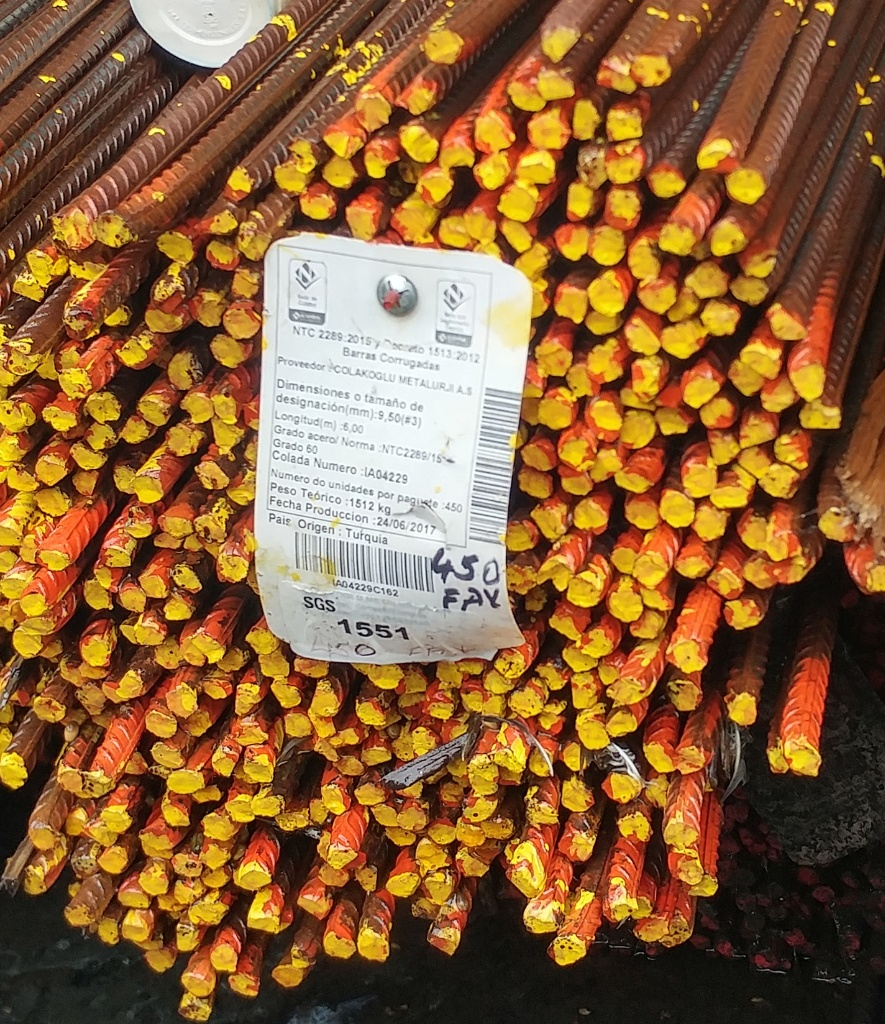dipstick: (498, 843, 545, 897), (387, 199, 434, 242), (603, 572, 645, 620), (698, 295, 741, 338), (584, 397, 627, 440), (537, 390, 579, 432), (517, 783, 560, 824), (767, 303, 813, 341), (189, 289, 230, 331), (224, 300, 267, 340), (351, 84, 390, 128), (321, 119, 365, 158), (697, 137, 738, 178), (553, 220, 593, 262), (183, 631, 225, 671), (401, 120, 440, 163), (706, 216, 747, 256), (631, 52, 674, 90), (608, 142, 646, 185), (54, 213, 99, 249), (469, 152, 515, 187), (116, 336, 162, 371), (607, 673, 653, 708), (787, 359, 825, 401), (683, 262, 728, 297), (52, 362, 101, 394), (718, 600, 767, 632), (600, 108, 646, 142), (539, 23, 579, 62), (639, 276, 678, 316), (586, 345, 625, 385), (399, 82, 440, 120), (238, 743, 276, 784), (354, 928, 395, 966), (363, 135, 400, 177), (6, 336, 43, 378), (77, 631, 116, 670), (231, 221, 271, 259), (710, 477, 756, 510), (215, 542, 251, 584), (345, 196, 380, 239), (499, 215, 534, 258), (579, 150, 618, 188), (625, 241, 663, 280), (737, 411, 777, 448), (597, 57, 638, 93), (472, 112, 513, 148), (207, 417, 248, 453), (759, 458, 800, 494), (726, 361, 767, 397), (536, 342, 577, 378), (526, 895, 561, 937), (817, 508, 859, 543), (138, 824, 176, 862), (773, 433, 811, 471), (687, 370, 725, 408), (226, 262, 265, 299), (639, 734, 676, 773), (93, 214, 133, 250), (632, 358, 668, 398), (727, 169, 768, 204), (590, 227, 631, 262), (515, 149, 556, 184), (268, 958, 309, 993), (678, 461, 719, 496), (551, 288, 592, 323), (533, 71, 576, 104), (153, 228, 196, 261), (554, 437, 598, 469), (119, 499, 156, 537), (649, 161, 688, 197), (536, 554, 572, 593), (590, 274, 629, 310), (300, 185, 340, 220), (180, 966, 220, 1001), (630, 909, 670, 944), (574, 714, 609, 754), (499, 184, 540, 218), (656, 220, 698, 253), (660, 818, 703, 850), (566, 568, 603, 605), (225, 469, 263, 505), (633, 552, 671, 588), (660, 490, 696, 528), (141, 702, 180, 737), (667, 639, 706, 674), (573, 493, 607, 533), (618, 414, 658, 448), (427, 32, 470, 63), (527, 114, 570, 145), (705, 568, 748, 599), (31, 691, 68, 727), (430, 922, 466, 959), (691, 504, 728, 540), (187, 895, 225, 930), (318, 833, 357, 867), (801, 397, 841, 430), (741, 347, 785, 377), (664, 681, 705, 713), (661, 325, 706, 354), (154, 276, 190, 312), (75, 681, 110, 718), (560, 778, 595, 815), (510, 78, 550, 110), (576, 627, 620, 656), (227, 713, 268, 744), (459, 789, 500, 820), (616, 810, 657, 841), (26, 249, 61, 285), (169, 352, 204, 388), (136, 394, 171, 430), (180, 393, 215, 429), (130, 472, 166, 507), (519, 464, 555, 499), (205, 235, 239, 272), (87, 388, 124, 422), (306, 679, 340, 716), (96, 840, 130, 877), (568, 101, 601, 139), (19, 576, 52, 614), (669, 848, 707, 881), (624, 496, 663, 528), (548, 609, 588, 640), (533, 503, 573, 534), (421, 171, 455, 207), (71, 465, 105, 501), (14, 627, 48, 663), (63, 895, 97, 931), (785, 738, 819, 774), (568, 365, 604, 399), (281, 711, 318, 744), (166, 688, 204, 720), (559, 468, 597, 500), (194, 211, 237, 239), (600, 774, 643, 802), (730, 275, 770, 305), (614, 461, 654, 491), (37, 540, 71, 575), (34, 451, 67, 487), (158, 797, 191, 833), (440, 213, 472, 250), (256, 648, 293, 680), (563, 639, 600, 671), (501, 562, 538, 594), (558, 831, 596, 862), (12, 273, 51, 303), (516, 245, 550, 279), (535, 657, 569, 691), (494, 740, 527, 775), (353, 698, 389, 730), (489, 650, 530, 678), (200, 809, 237, 840), (321, 928, 358, 959), (356, 738, 393, 769), (504, 521, 541, 552), (520, 440, 557, 471), (435, 141, 473, 171), (452, 848, 490, 878), (410, 842, 449, 871), (166, 422, 200, 455), (230, 681, 263, 715), (269, 674, 303, 707), (170, 847, 204, 880), (421, 869, 454, 903), (81, 422, 121, 450), (249, 903, 284, 935), (623, 411, 658, 443), (626, 321, 661, 353), (560, 187, 596, 218), (467, 755, 498, 791), (467, 204, 497, 241), (3, 402, 33, 439), (159, 510, 197, 539), (1, 752, 30, 790), (628, 610, 666, 639), (191, 512, 230, 540), (423, 683, 455, 717), (83, 580, 112, 617), (196, 840, 233, 869), (410, 727, 448, 755), (7, 463, 39, 496), (211, 336, 245, 367), (139, 865, 173, 896), (428, 656, 467, 683), (70, 849, 99, 885), (236, 862, 272, 891), (295, 889, 332, 917), (561, 738, 589, 775), (703, 435, 740, 463), (70, 257, 113, 281), (289, 140, 321, 172), (246, 625, 279, 656), (121, 913, 154, 944), (273, 161, 307, 191), (75, 441, 109, 471), (57, 657, 91, 687), (528, 744, 558, 778), (175, 1000, 221, 1022), (451, 822, 488, 849), (553, 934, 590, 961), (28, 823, 59, 855), (208, 945, 240, 976), (773, 554, 805, 585), (170, 563, 203, 593), (745, 558, 778, 588), (673, 742, 707, 771), (151, 637, 186, 665), (213, 744, 241, 779), (571, 679, 599, 714), (673, 553, 712, 578), (211, 392, 238, 428), (38, 487, 74, 514), (617, 392, 659, 415), (147, 308, 184, 334), (89, 918, 120, 949), (588, 449, 619, 480), (137, 571, 169, 601), (114, 669, 146, 699), (141, 945, 181, 969), (320, 784, 349, 817), (354, 861, 383, 894), (510, 690, 544, 718), (740, 514, 768, 548), (97, 545, 135, 570), (195, 460, 230, 487), (58, 761, 85, 796), (64, 311, 94, 342), (461, 679, 491, 710), (104, 301, 133, 333), (118, 418, 150, 447), (152, 740, 184, 769), (437, 784, 469, 813), (160, 593, 194, 620), (423, 817, 457, 844), (729, 693, 756, 727), (477, 694, 512, 720), (485, 668, 520, 694), (201, 675, 237, 700), (369, 663, 405, 688), (62, 804, 92, 834), (524, 360, 549, 396), (534, 693, 573, 716), (118, 882, 151, 909), (396, 807, 429, 834), (517, 597, 551, 623), (291, 655, 331, 677), (276, 808, 311, 833), (304, 794, 328, 830), (185, 783, 226, 804), (172, 879, 205, 905), (605, 712, 638, 738), (23, 861, 48, 895), (173, 924, 207, 949), (393, 666, 427, 691), (41, 408, 76, 432), (662, 918, 692, 946), (658, 414, 693, 438), (225, 167, 256, 194), (151, 894, 187, 917), (760, 380, 796, 403), (398, 694, 431, 719), (585, 314, 628, 333), (353, 781, 387, 805), (523, 391, 547, 425), (135, 618, 164, 646), (1, 436, 31, 463), (310, 714, 340, 741), (745, 252, 776, 278), (1, 570, 32, 596), (1, 537, 23, 573), (168, 768, 201, 792), (230, 974, 263, 998), (439, 718, 473, 741), (218, 644, 248, 670), (603, 898, 633, 924), (198, 867, 235, 888), (101, 807, 132, 832), (225, 799, 257, 823), (306, 738, 338, 762), (371, 800, 399, 827), (92, 556, 121, 582), (857, 567, 885, 593), (86, 772, 115, 797), (254, 797, 285, 820), (322, 862, 350, 887), (286, 943, 314, 968), (151, 530, 184, 551), (386, 825, 416, 848), (332, 755, 366, 775), (477, 240, 506, 263), (21, 533, 43, 563), (384, 873, 417, 893), (123, 748, 147, 775), (611, 545, 638, 569), (538, 714, 567, 736), (478, 815, 513, 833), (117, 623, 143, 647), (392, 735, 416, 761), (457, 657, 488, 677), (692, 874, 717, 897), (116, 467, 136, 495), (408, 901, 438, 919), (767, 538, 790, 560), (766, 749, 790, 769), (104, 680, 123, 705), (500, 769, 523, 787), (623, 897, 642, 918)
